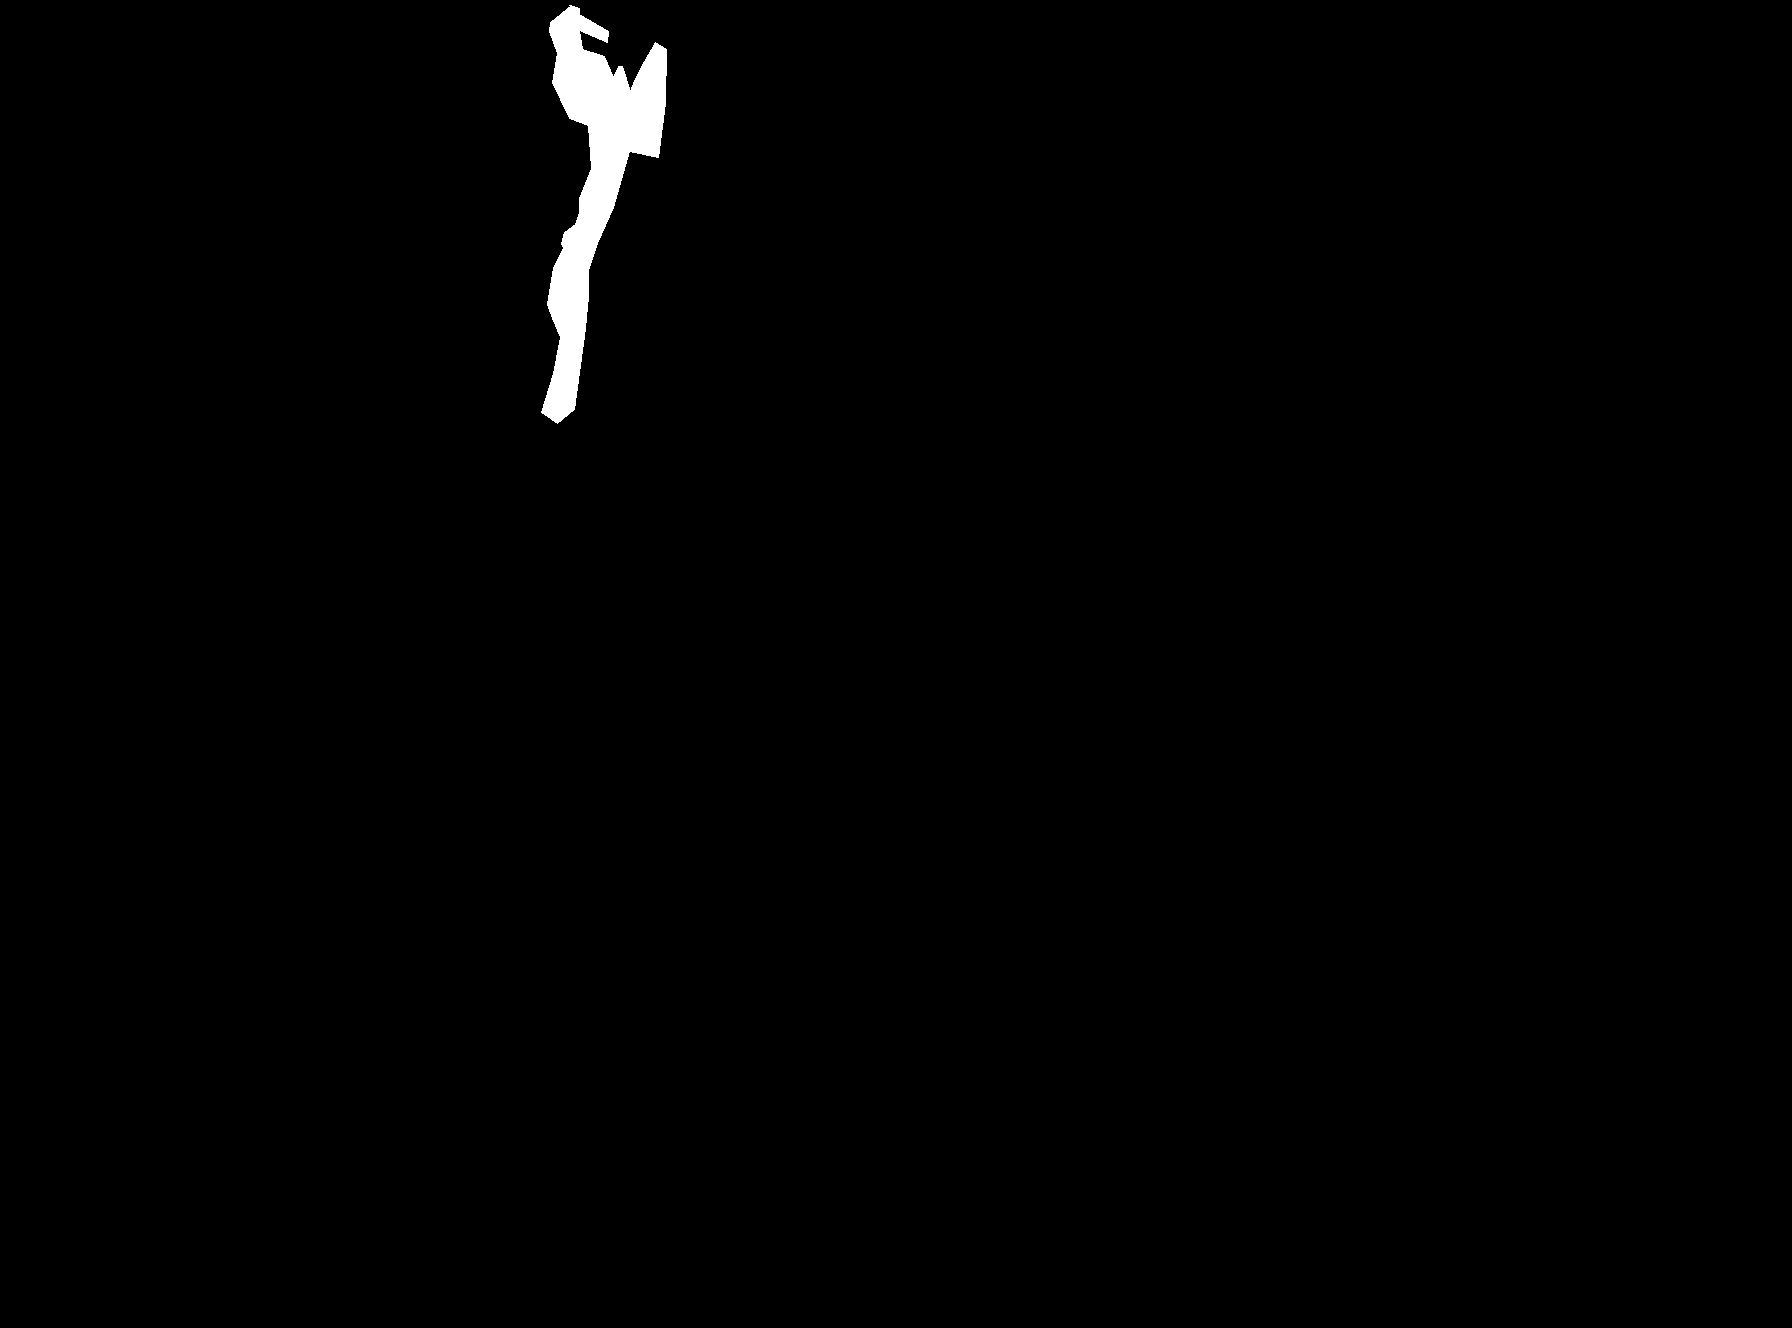Fire: (542, 1, 632, 317)
